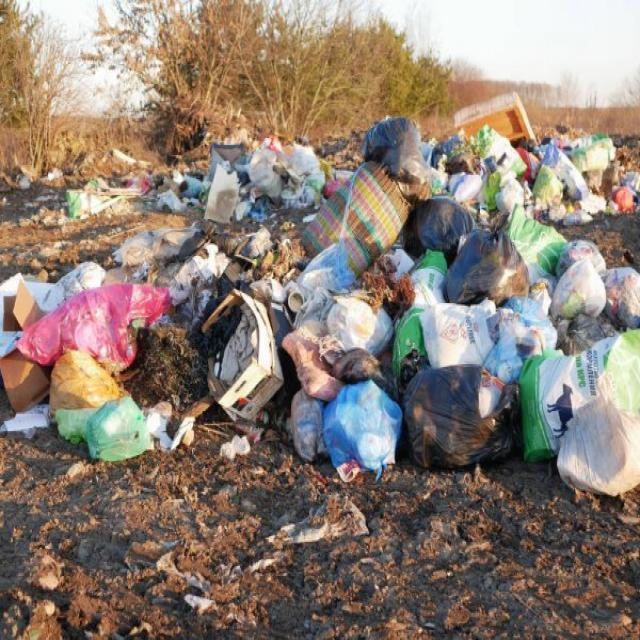garbage: (33, 102, 630, 494)
